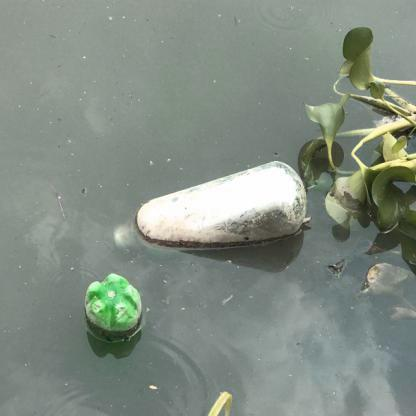Plastic: (90, 154, 315, 258), (82, 269, 143, 337)
